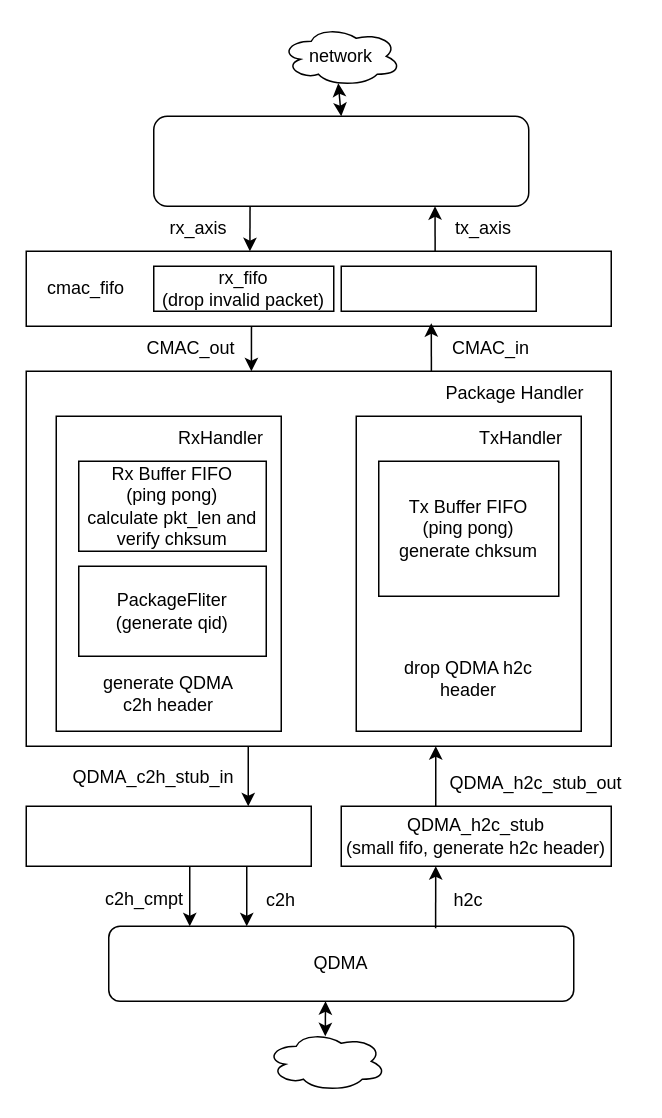
This 662x1118 diagram has some shape labels left out. Here are the shapes that lost their labels. From the top down, the centre of each, then its label:
point 340,160: CMAC
point 438,288: tx_fifo
point 168,835: QDMA_c2h_stub (small fifo, divide packet by tlast)
point 325,1060: host
